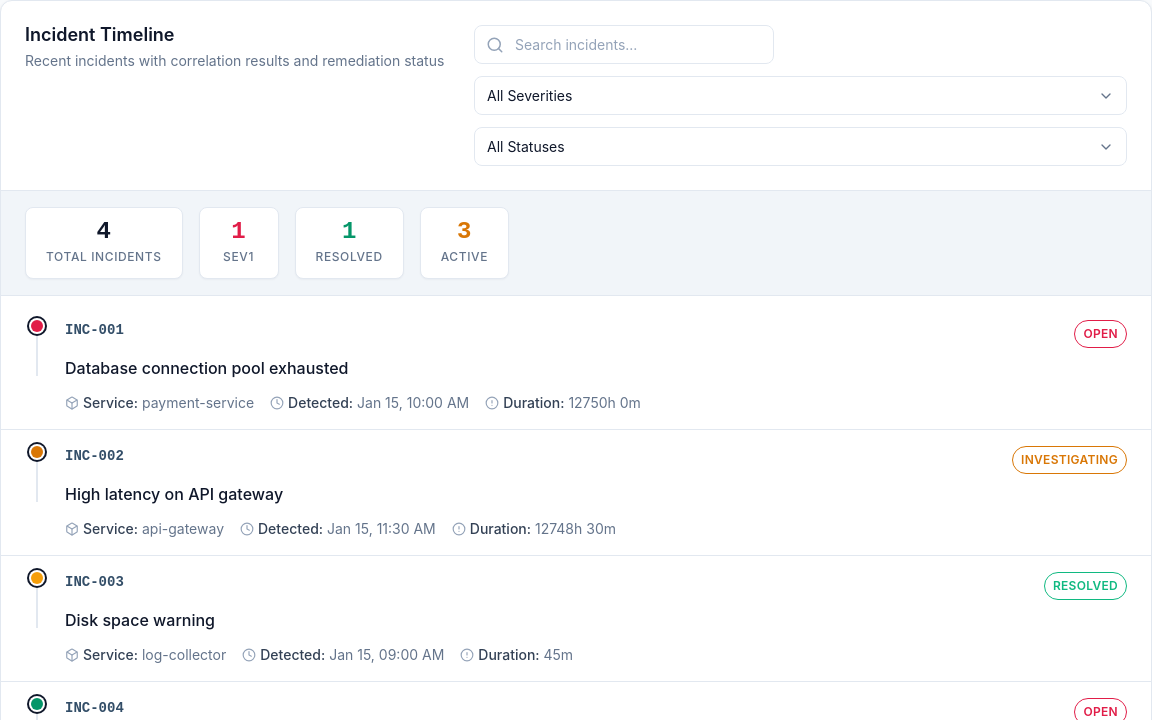
Test: IncidentTimeline › filters by status when selecting open
Select "Open" in the dropdown named "Filter by status". click: (800, 146)
box: [474, 127, 1127, 166]
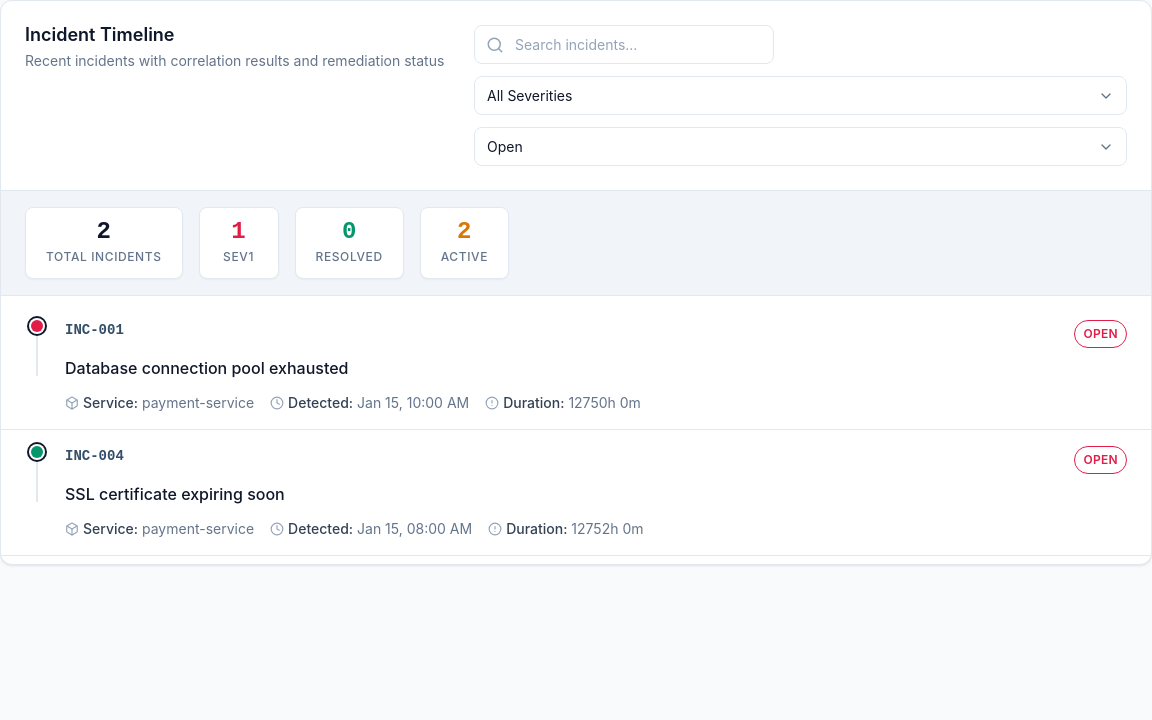
Expected: the text "INC-001" is shown, [65, 320, 124, 341]
Expected: the text "INC-002" is gone
